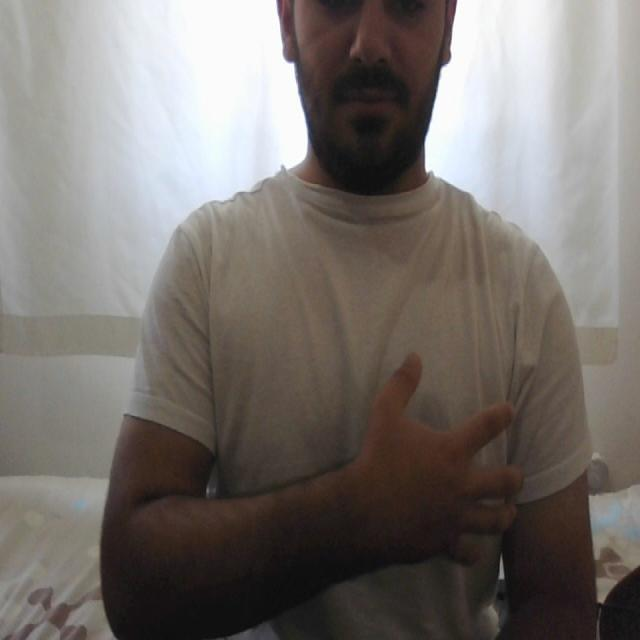Anne: (205, 323, 537, 593)
